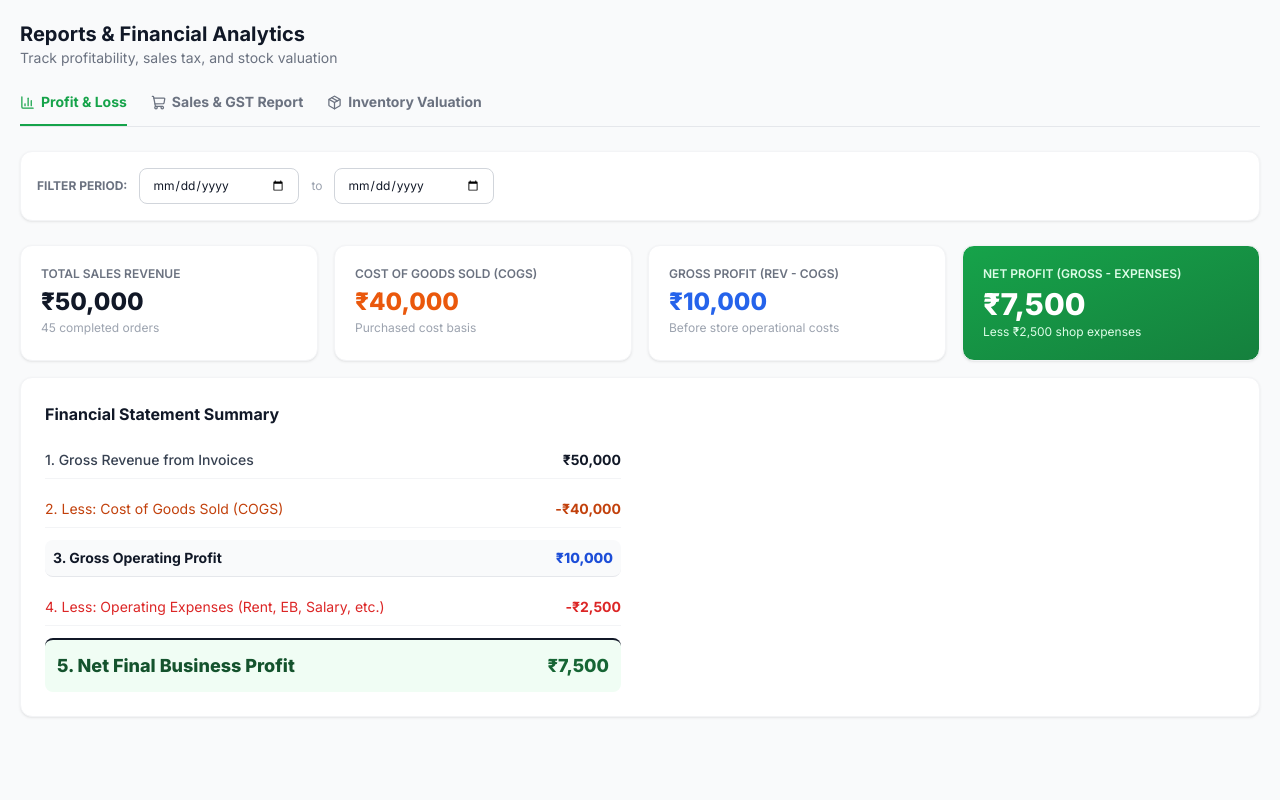
Scenario: ReportsPage Component & Tabs › renders Profit & Loss overview and switches between report tabs
The width and height of the screenshot is (1280, 800).
expect the heading "Reports & Financial Analytics" is shown: met, box [20, 20, 338, 48]
expect the text "5. Net Final Business Profit" is shown: met, box [57, 652, 295, 680]
Switch to Sales & GST Report tab
Click the button "Sales & GST Report" at point(227, 109), box [151, 92, 303, 126]
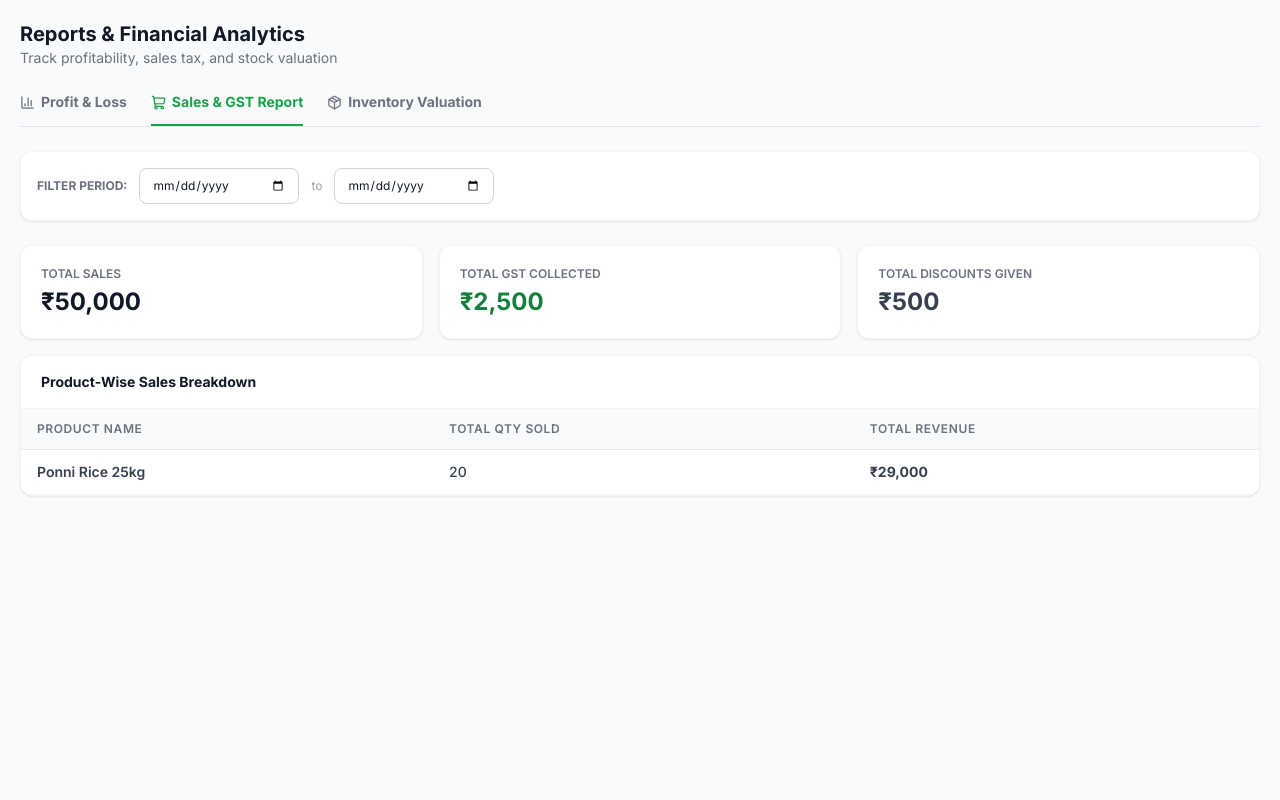
expect the heading "Product-Wise Sales Breakdown" is shown: met, box [41, 372, 256, 392]
expect the text "Ponni Rice 25kg" is shown: met, box [21, 450, 433, 494]
Switch to Inventory Valuation tab
Click the button "Inventory Valuation" at point(405, 109), box [327, 92, 482, 126]
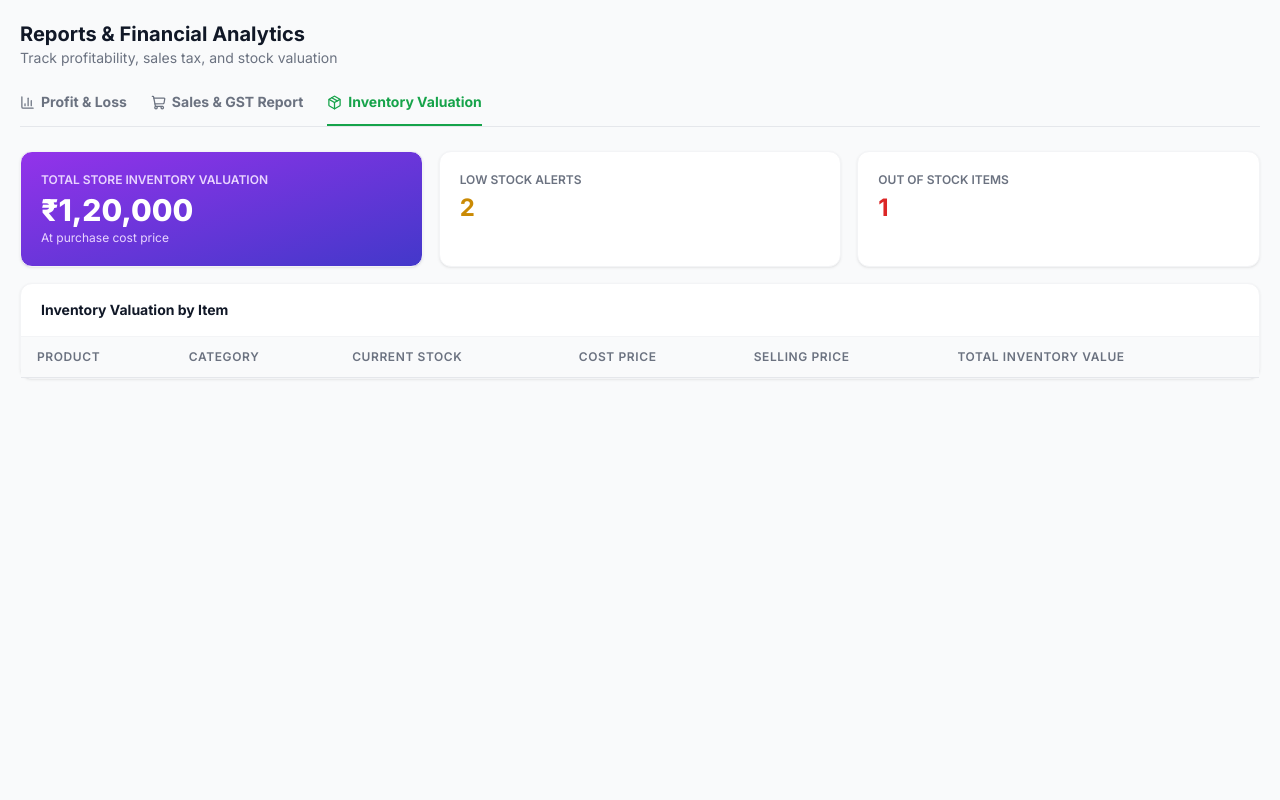
expect the text "Total Store Inventory Valuation" is shown: met, box [41, 172, 268, 187]
expect the text "₹1,20,000" is shown: met, box [41, 192, 193, 228]
